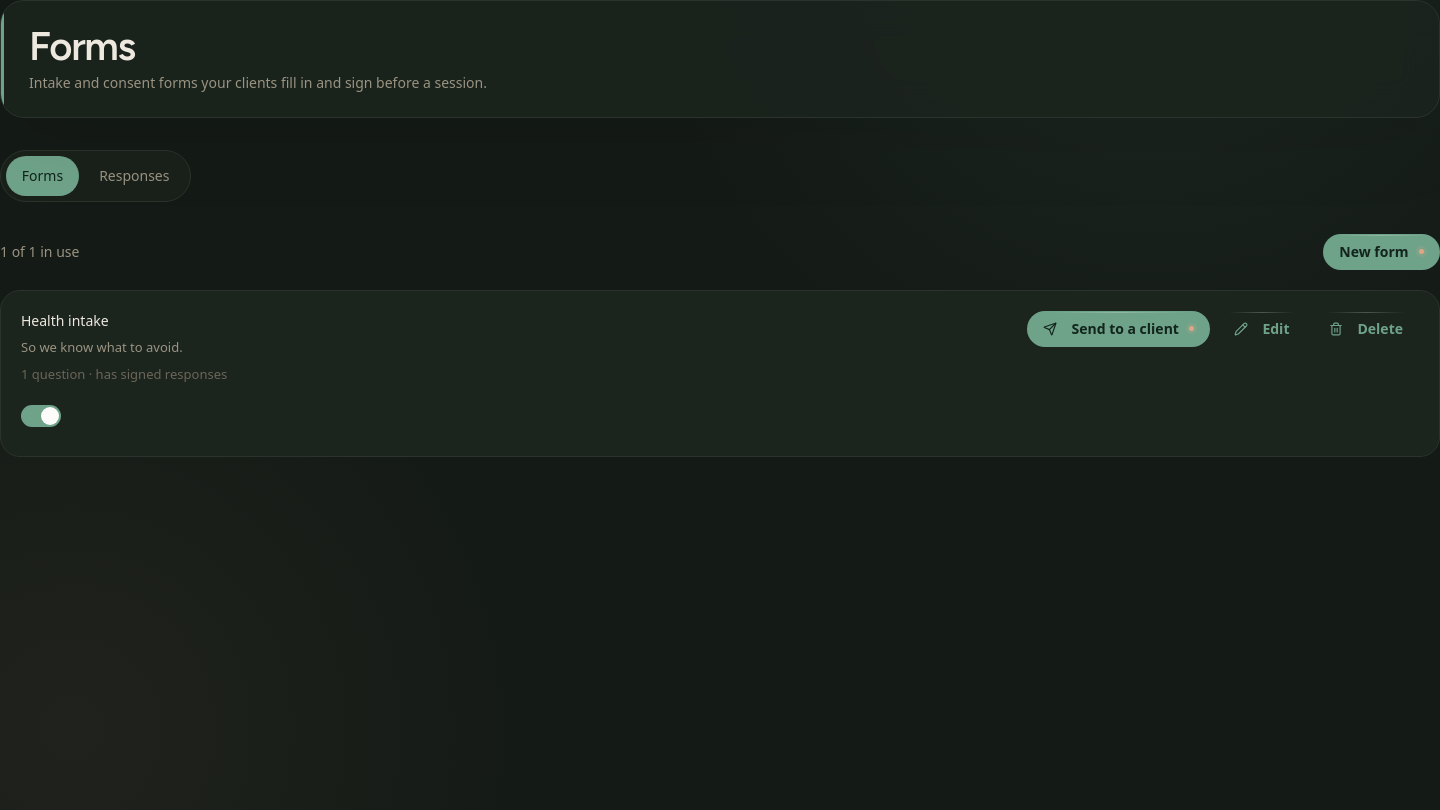
Test case: FormsPage › the builder › warns before rewording a form that has signed responses
Expected: the heading "Health intake" is shown, [21, 311, 109, 331]
What coordinates should you click on to do the following:
click the button "Edit"
I would click on:
 (1262, 329)
Its box is [1218, 311, 1306, 347].
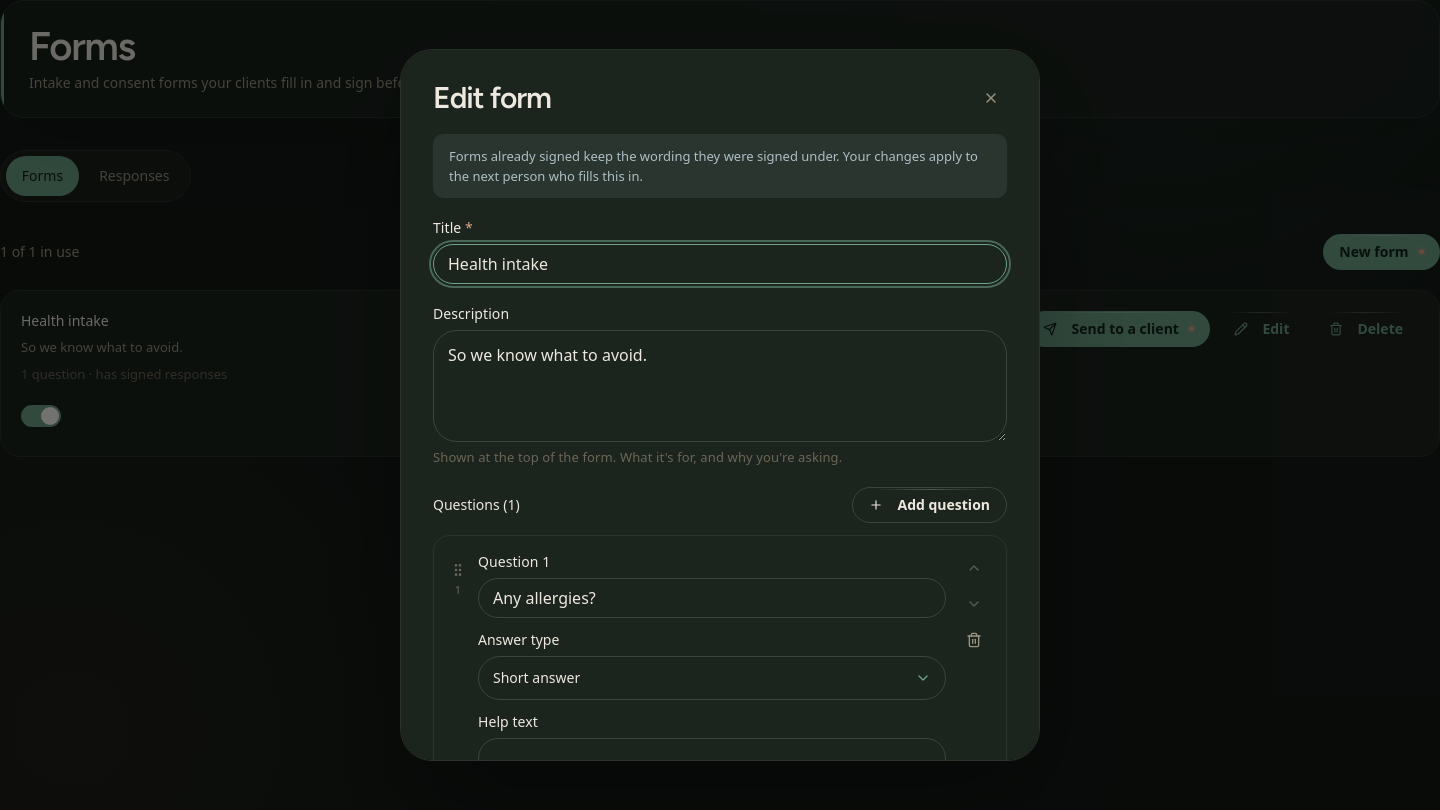
Expected: the text "keep the wording they were signed under" is shown, [449, 147, 978, 185]
